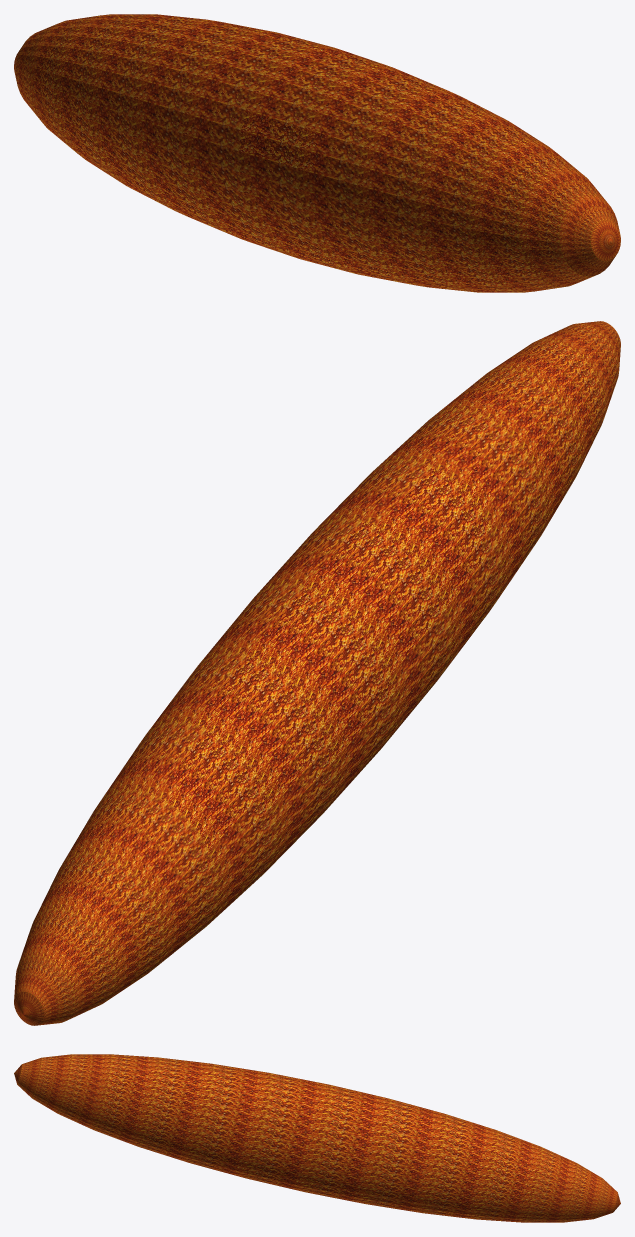
File: kroket.obj
3 views of the same model, one above another, from view 1: azimuth 30°, elevation 25°; view 2: azimuth 150°, elevation 25°; view 3: azimuth 270°, elevation 25° (orthographic). The views are drawn at different scales.
Visible parts, largest first — view 1: Sphere_Sphere.001; view 2: Sphere_Sphere.001; view 3: Sphere_Sphere.001.
Boxes of the visible parts, x1=… form: Sphere_Sphere.001: x1=14, y1=14, x2=620, y2=292; Sphere_Sphere.001: x1=14, y1=321, x2=620, y2=1025; Sphere_Sphere.001: x1=14, y1=1054, x2=620, y2=1222.
Size of the model in its own units: 0.9467 by 1.86 by 6.22.
Materials: 1 (1 with a texture image).
